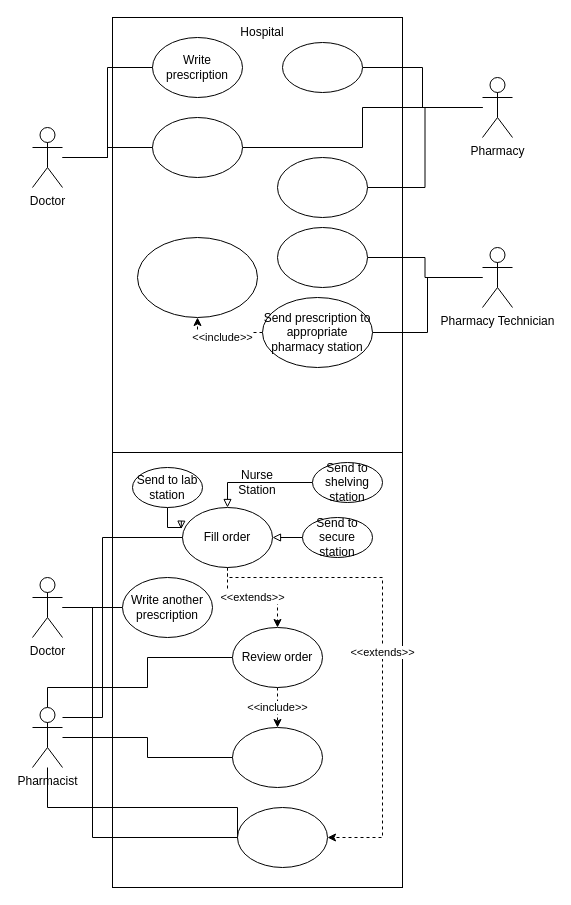
The diagram is 571 pixels wide and 905 high, and some of its shapes have lost their labels. Each missing label, with the box of its shape:
Check if ordered drug must be formulated/is off-the-shelf/or narcotics: (136, 236, 258, 318)
Check patient files: (232, 726, 322, 788)
Contact Doctor: (236, 806, 328, 868)
Distribute prescriptions to nurse stations: (276, 156, 368, 218)
Fill prescription: (282, 42, 362, 92)
Review prescription: (276, 226, 368, 288)
Send prescription: (152, 116, 242, 178)
